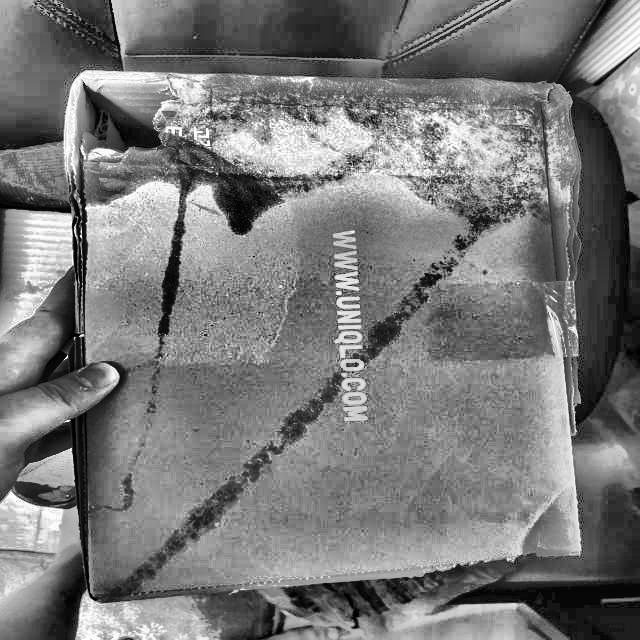box: (62, 65, 588, 600)
hole: (68, 77, 180, 160)
wet: (185, 80, 568, 229)
